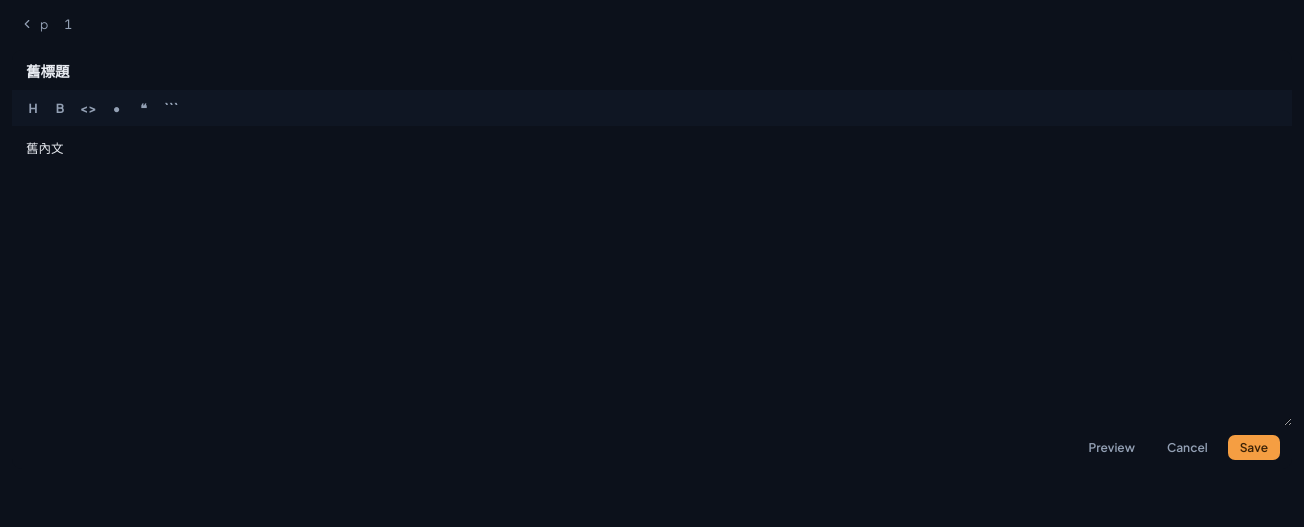
Test case: TaskEditor › 200 但回應缺 fingerprint → 落回通用字串（不是 e.message），草稿留著（whole-branch review 二輪 FIX 1）
The width and height of the screenshot is (1304, 527).
Replace the text in the text box named "Body" with "x": (652, 276) [12,126,1292,426]
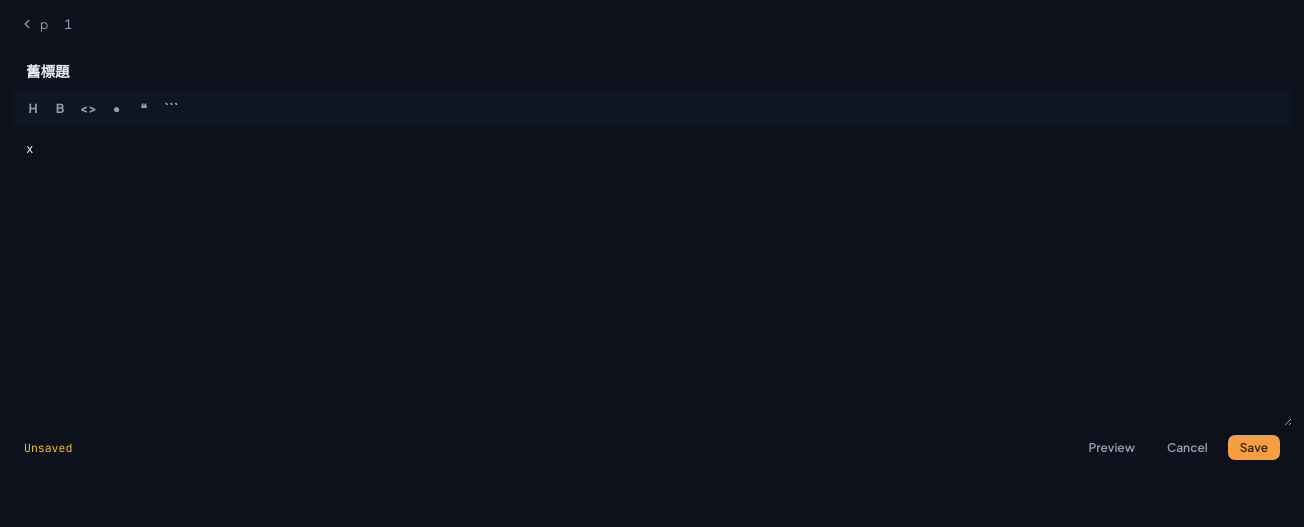
Click the button "Save": (1254, 448) [1228,435,1280,460]
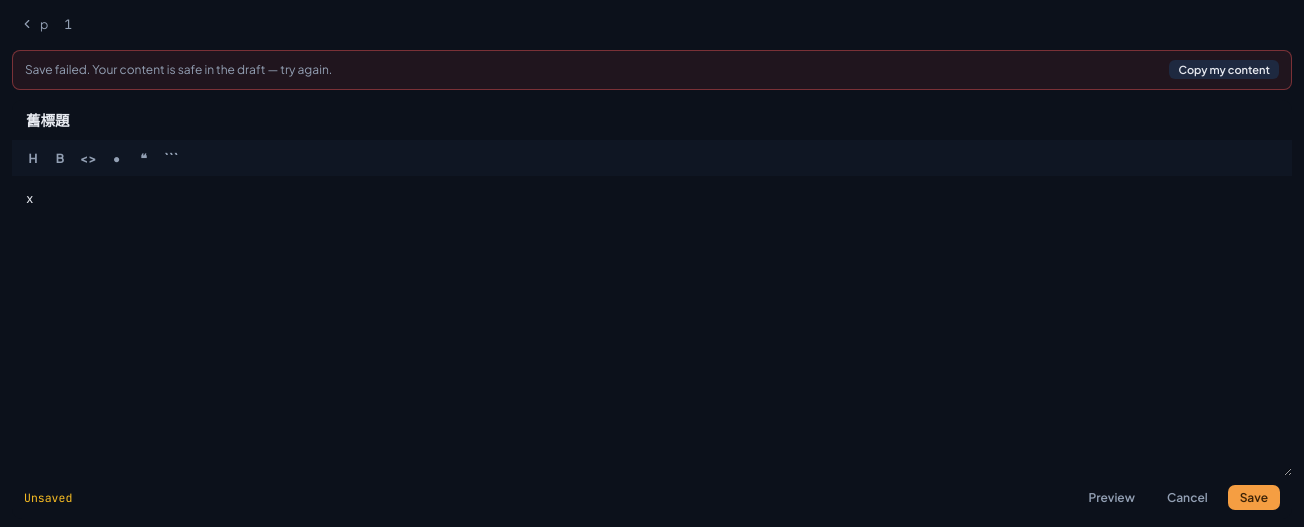
Now the text "Save failed. Your content is safe in the draft — try again." is shown, box [25,62,332,77]
